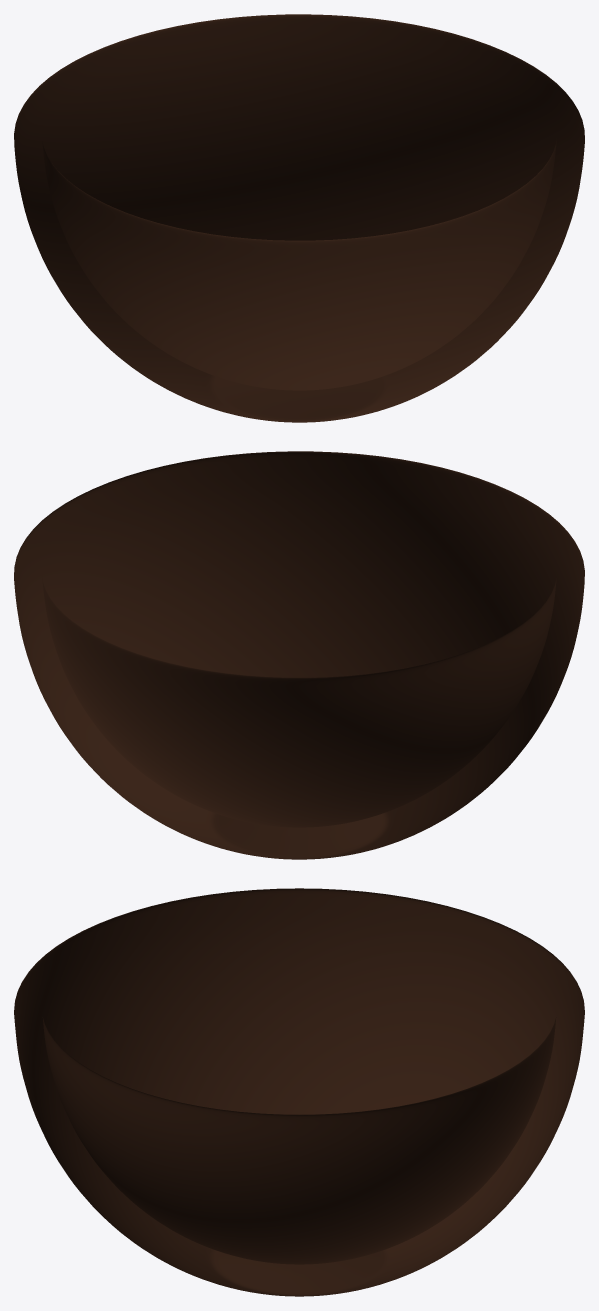
Rendered from bowl.glb.
The picture shows the model from 3 angles, top to bottom: view 1: azimuth 30°, elevation 25°; view 2: azimuth 150°, elevation 25°; view 3: azimuth 270°, elevation 25°; orthographic projection.
Visible parts, largest first — view 1: start_sphere2:PIV; view 2: start_sphere2:PIV; view 3: start_sphere2:PIV.
Part boxes in pixels (<box>): start_sphere2:PIV: <box>14,14,584,422</box>; start_sphere2:PIV: <box>14,451,584,859</box>; start_sphere2:PIV: <box>14,888,584,1296</box>.
Size of the model in its own units: 7.87 by 3.85 by 7.87.
